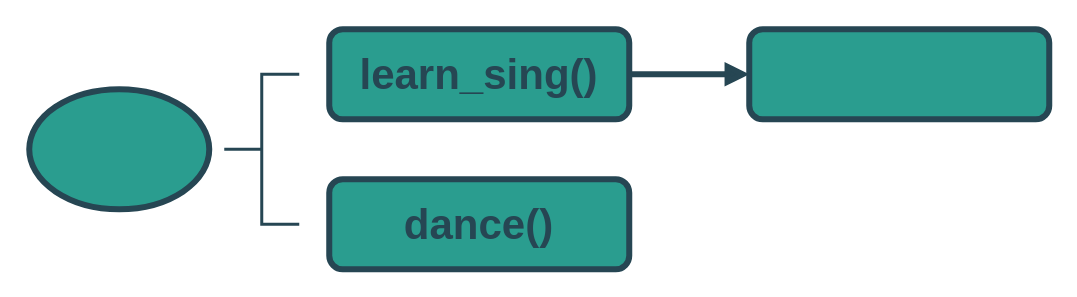
This 1077x297 diagram has some shape labels left out. The box of each missing label's shape, as (x1, y1, x2, y2) in pixels:
join!(): (26, 86, 212, 212)
sing_song(): (746, 26, 1052, 122)
